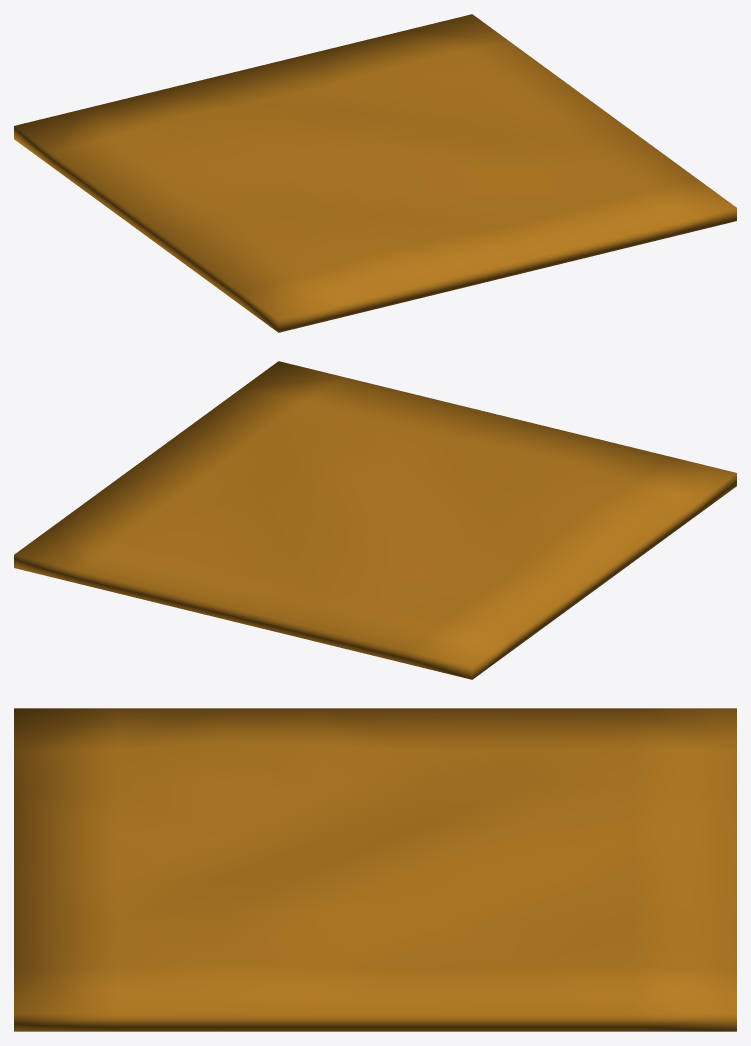
File: ground.dae
3 views of the same model, one above another, from view 1: azimuth 30°, elevation 25°; view 2: azimuth 150°, elevation 25°; view 3: azimuth 270°, elevation 25° (orthographic). The views are drawn at different scales.
Visible parts, largest first — view 1: land-col; view 2: land-col; view 3: land-col.
Part boxes in pixels (left/top/right/bottom): land-col: left=14, top=14, right=736, bottom=332; land-col: left=14, top=361, right=736, bottom=679; land-col: left=14, top=708, right=736, bottom=1031.
Bounding box in the file's own units: 10 × 10 × 0.5566.
